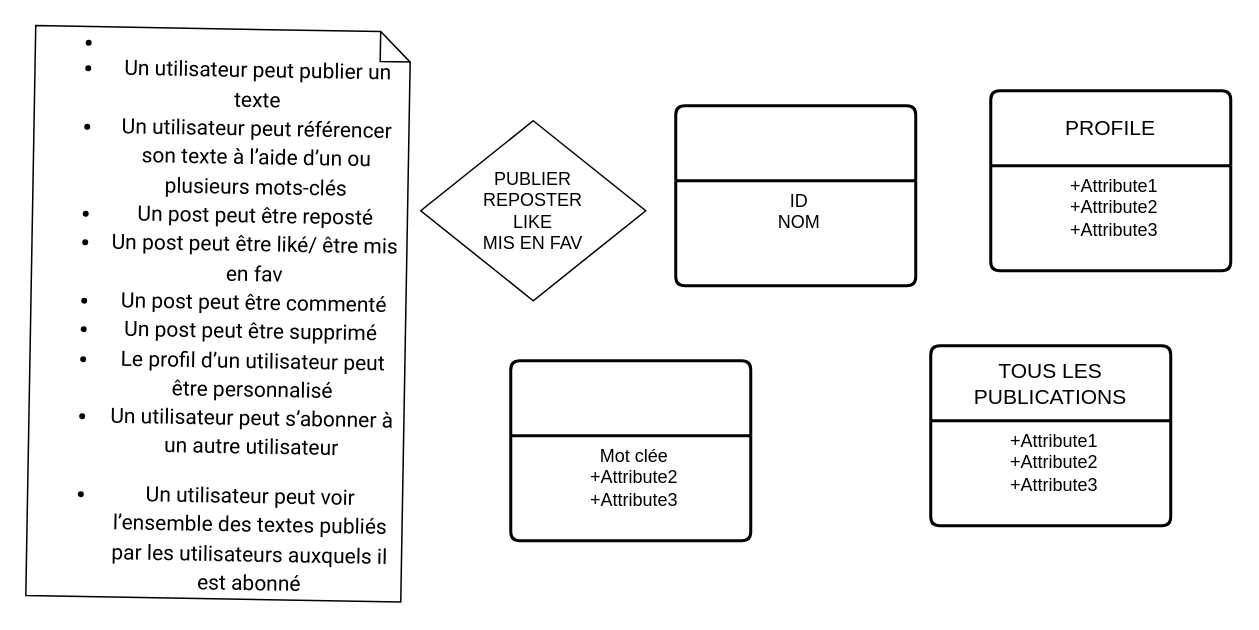
Image size: 1259x630. Some labels were removed from this diagram. The shapes that lost their labels are listed below. From the top down, each one's box as (x1, y1, x2, y2) in pixels, then its label:
(674, 104, 916, 286): UTILISATEUR
(508, 358, 752, 542): SON PUBLICATION
